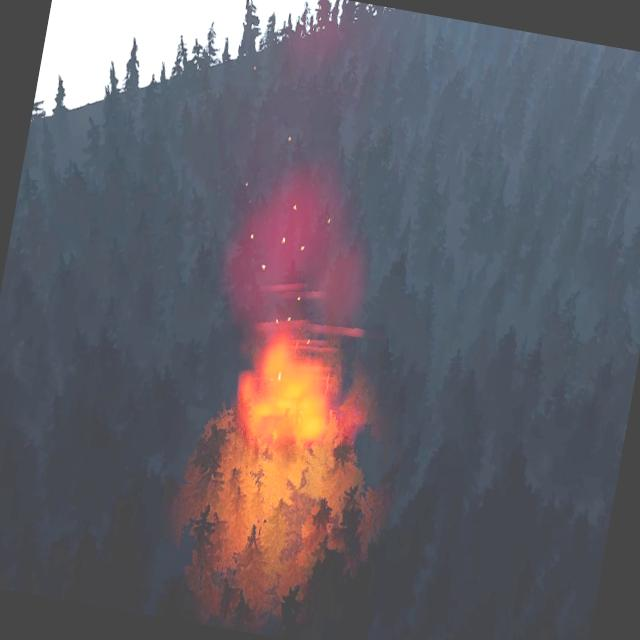fire: (232, 314, 350, 450)
smoke: (218, 146, 386, 334)
